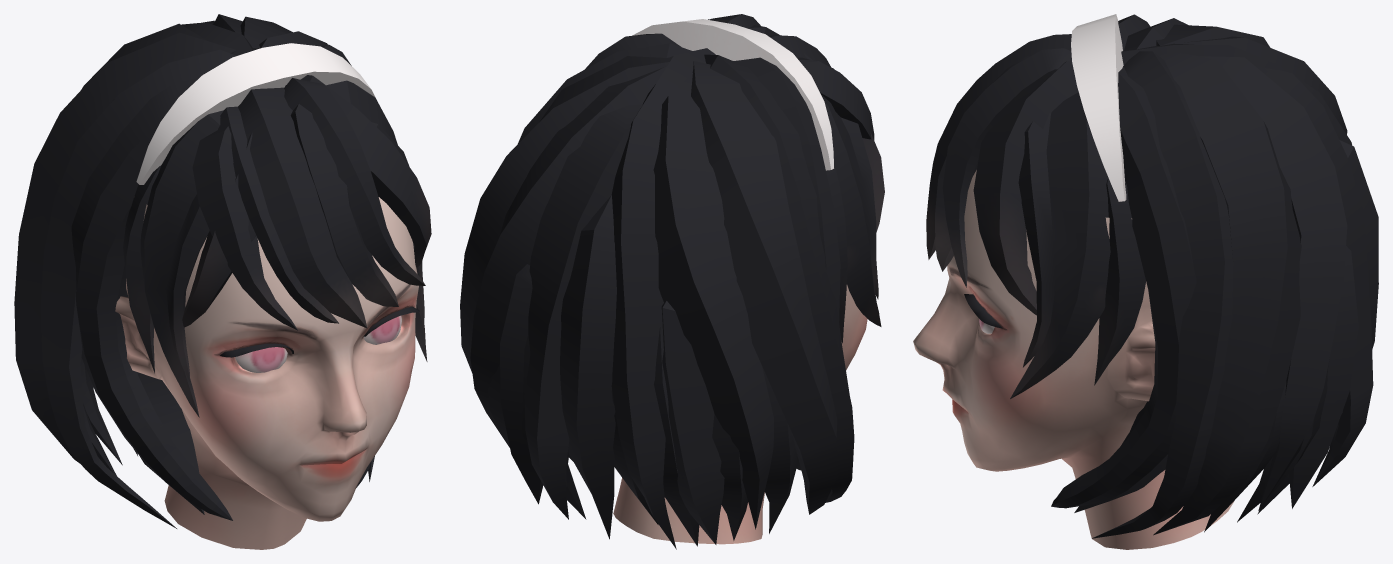
The model's file is katsumi_head.fbx.
3 views of the same model, side by side, from view 1: azimuth 30°, elevation 25°; view 2: azimuth 150°, elevation 25°; view 3: azimuth 270°, elevation 25° (orthographic). The views are drawn at different scales.
Visible parts, largest first — view 1: katsumiHead; view 2: katsumiHead; view 3: katsumiHead.
Boxes of the visible parts, x1,y1,x2,y2 form: katsumiHead: (14, 14, 431, 549); katsumiHead: (460, 14, 884, 549); katsumiHead: (913, 14, 1378, 549).
Size of the model in its own units: 1.9 by 2.43 by 2.03.
1 material, 1 textured.
